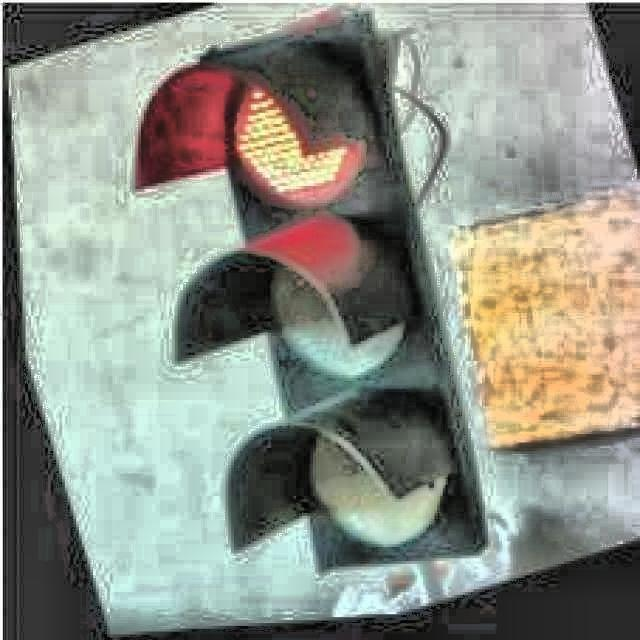red: (175, 45, 463, 565)
